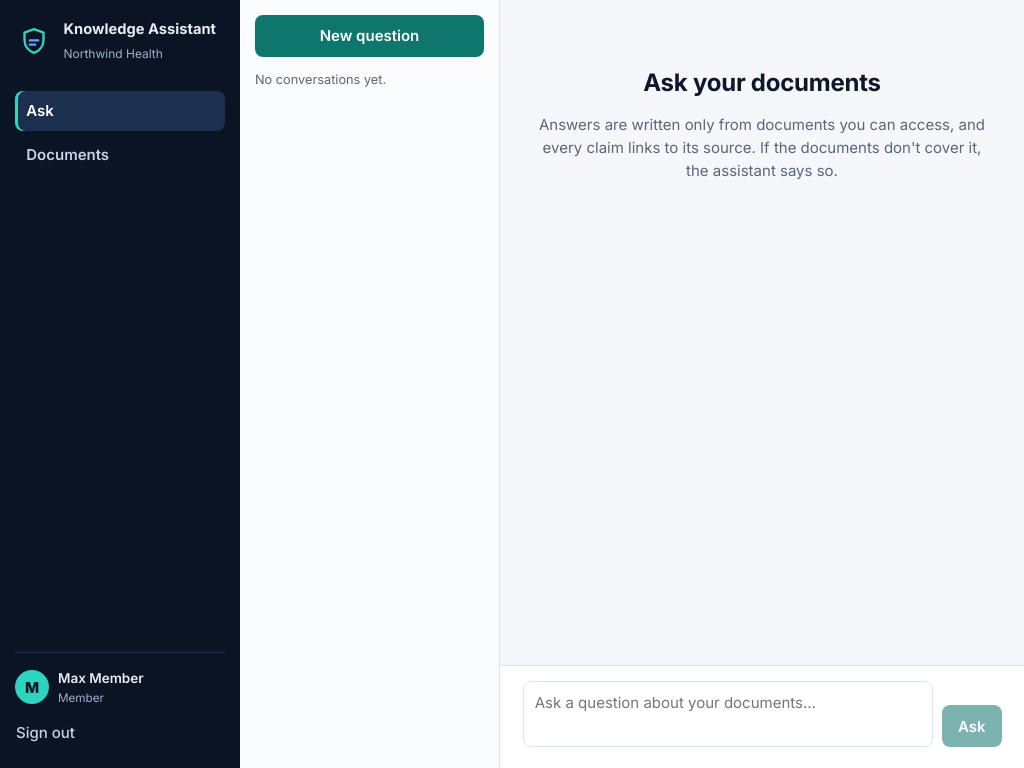
Test: chat › shows the error and keeps the question when the model is unavailable
In the text box named "Your question": (728, 714) [522,680,933,747], type "How long do refunds take?"
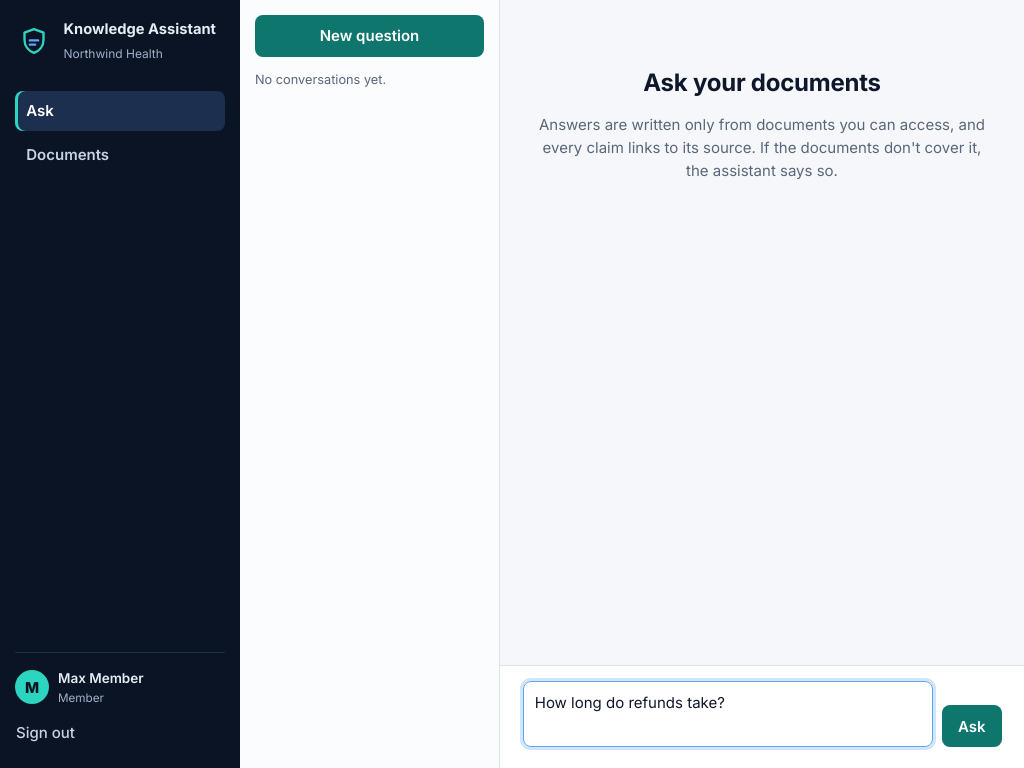
Click the button "Ask": click(972, 726) [942,705,1002,747]
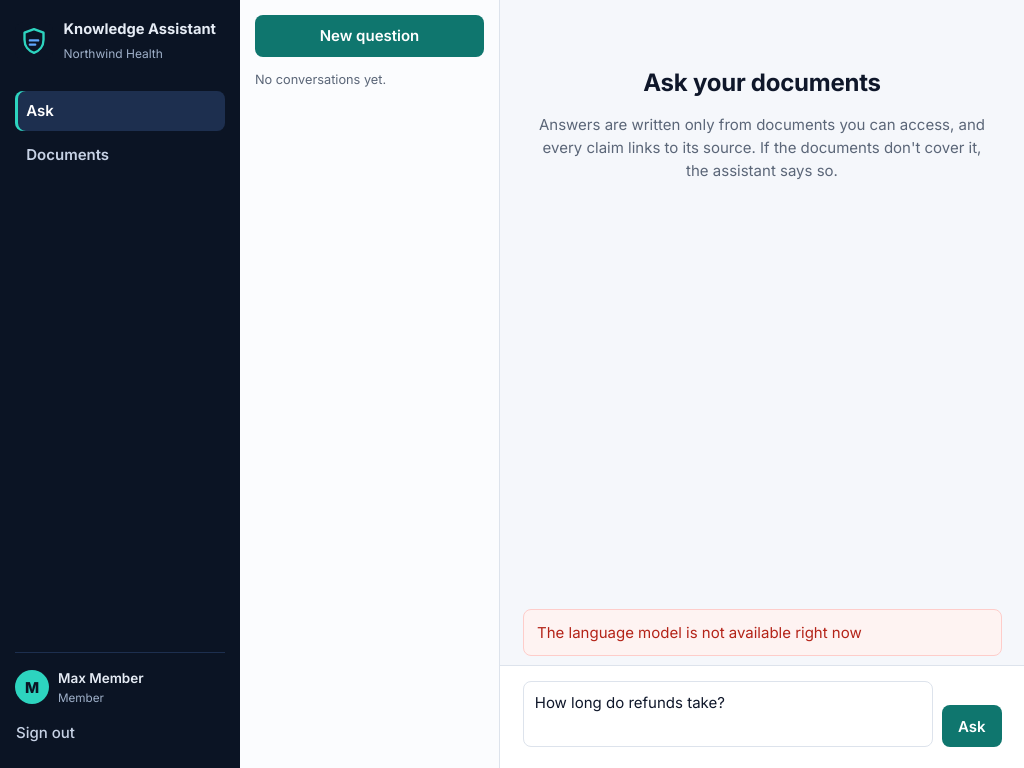
Check: the message reads "The language model is not available right now", box [537,623,862,642]
